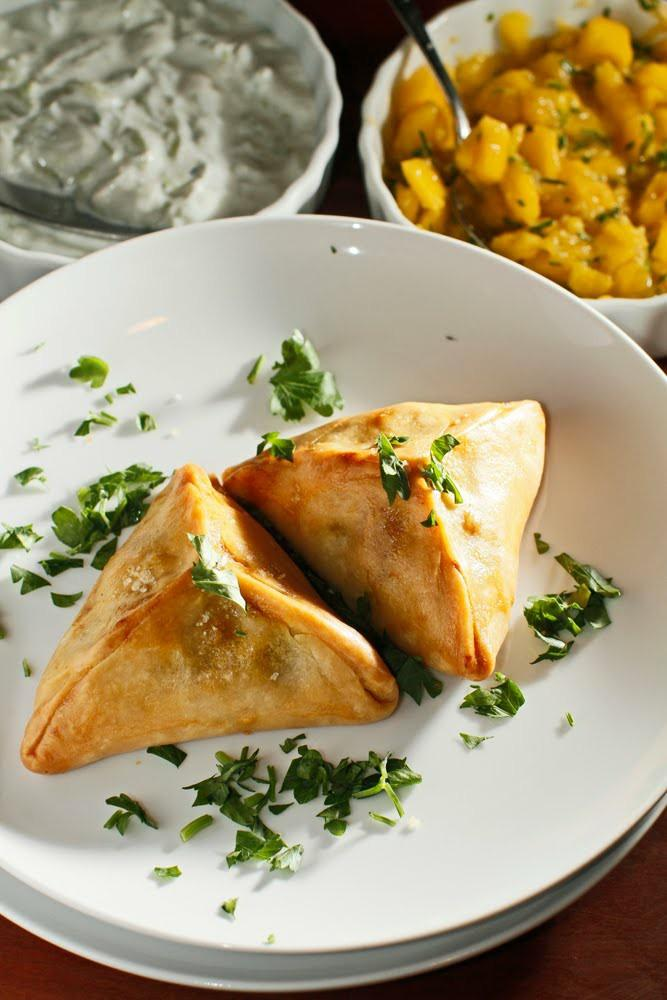Samosa: (16, 468, 406, 774), (226, 400, 548, 679)
